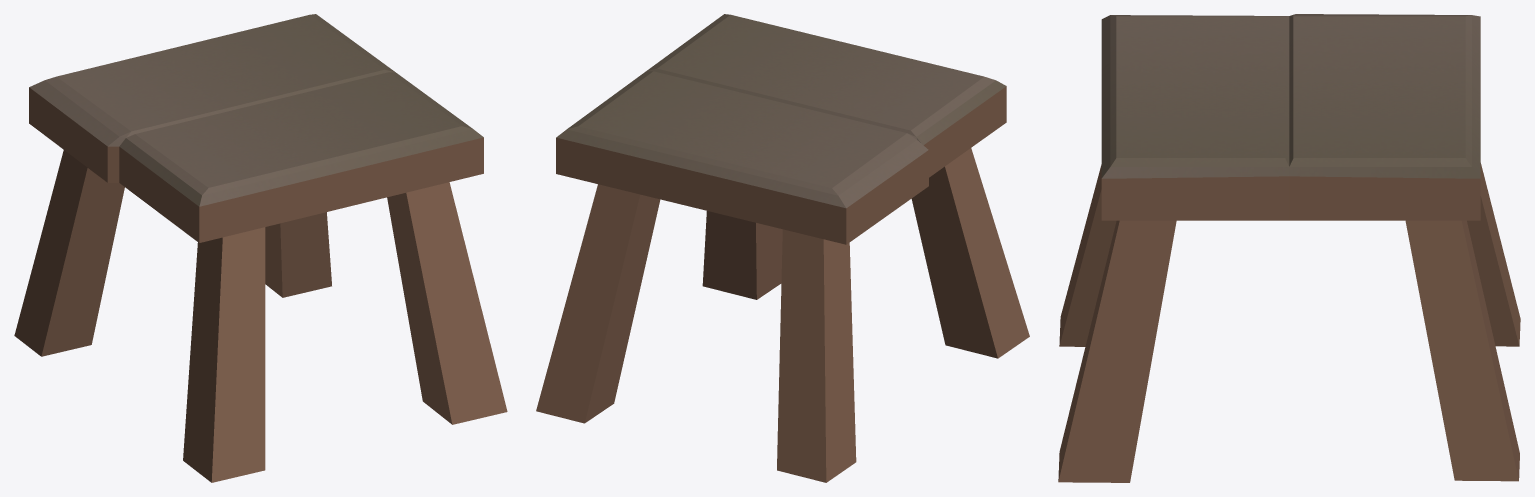
The model's file is Stool_2.fbx.
3 renders of one model, left to right at view 1: azimuth 30°, elevation 25°; view 2: azimuth 150°, elevation 25°; view 3: azimuth 270°, elevation 25°, orthographic. The views are drawn at different scales.
Parts seen in each view (by area): view 1: polySurface1512; view 2: polySurface1512; view 3: polySurface1512.
Boxes of the visible parts, x1=… form: polySurface1512: x1=14, y1=14, x2=507, y2=482; polySurface1512: x1=536, y1=14, x2=1029, y2=482; polySurface1512: x1=1058, y1=14, x2=1520, y2=482.
Bounding box in the file's own units: 74.18 × 64.77 × 86.77.
